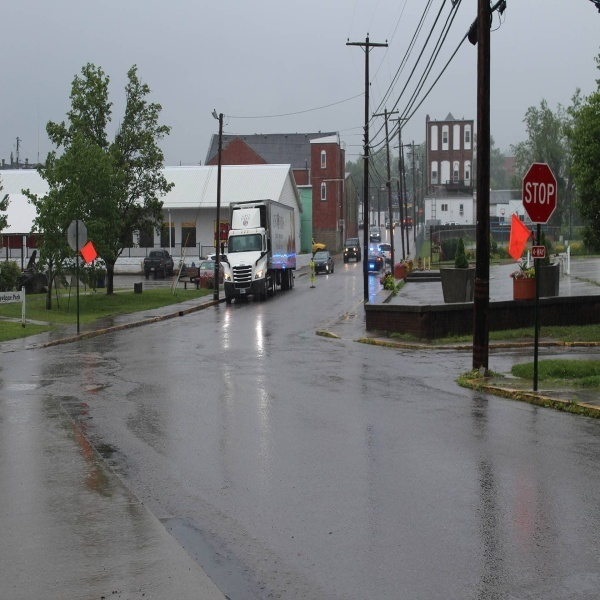stop: (519, 159, 557, 224)
